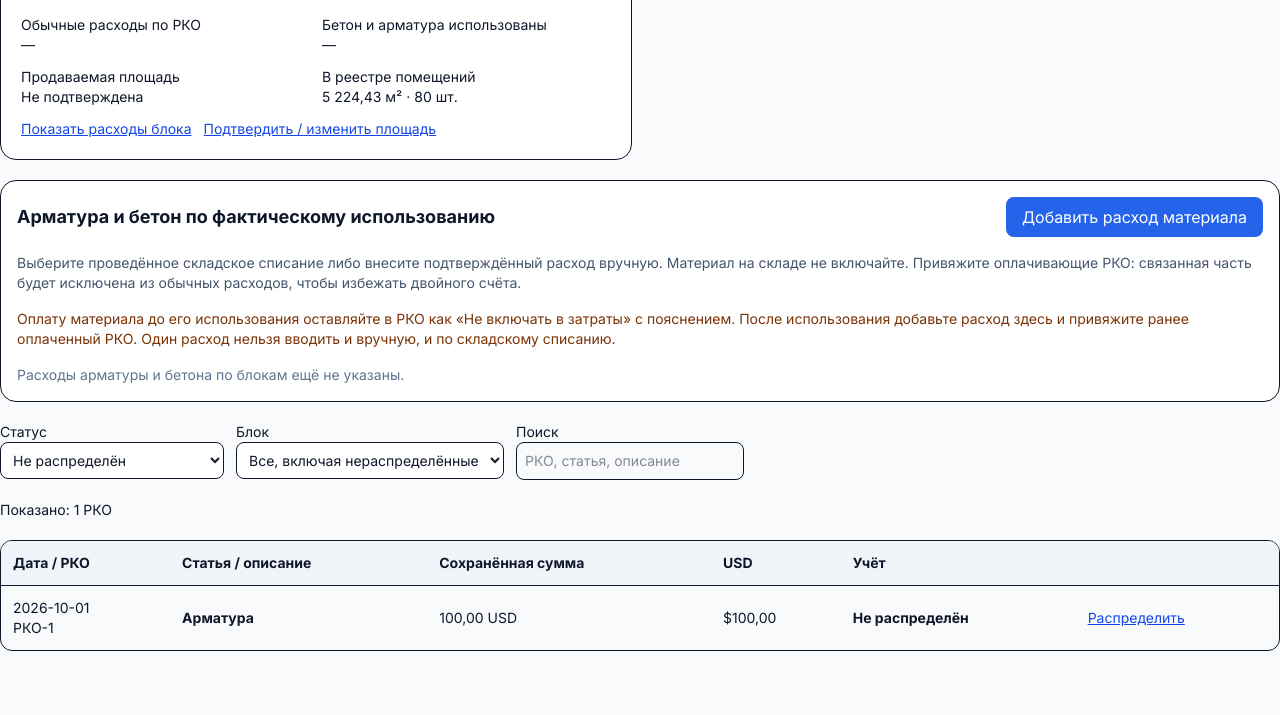
Test: Block costs workflow › requires explicit block selection before assigning an RKO
(page scrolled)
Click the button "Распределить": (1136, 618) [1088,608,1185,628]
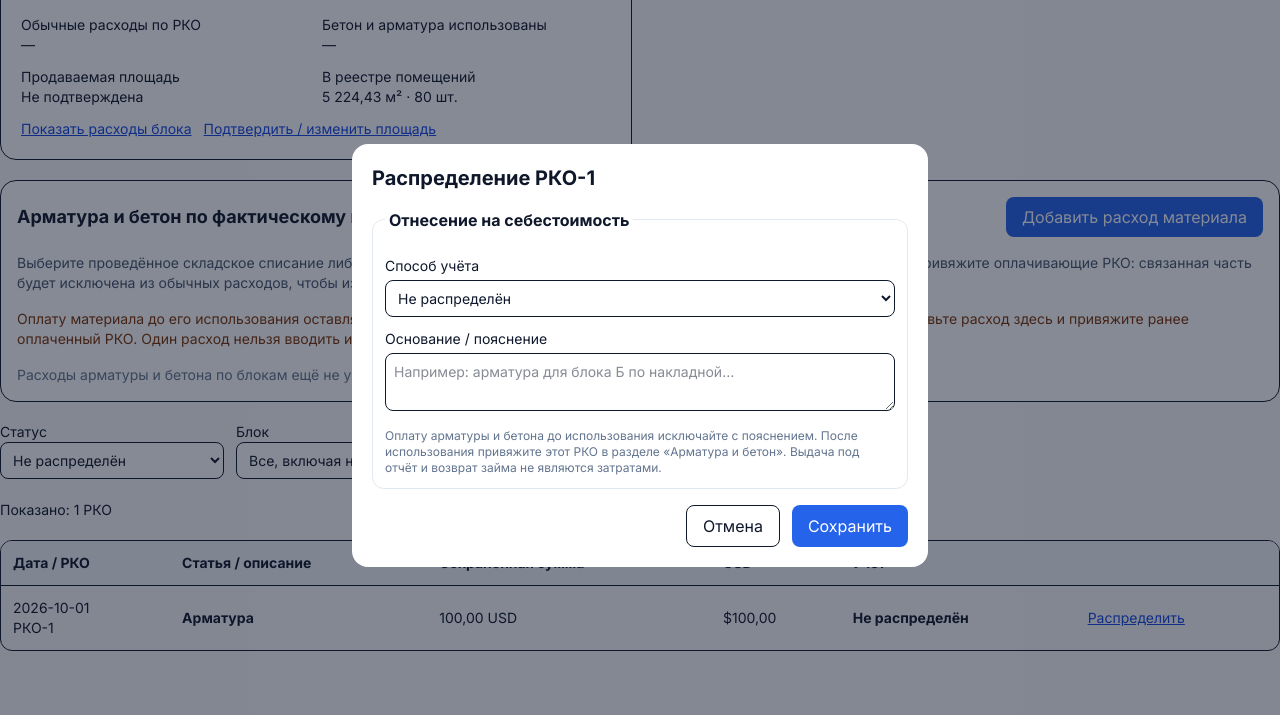
Select "Расход одного блока" in the dropdown labelled "Способ учёта": (640, 298) [385,280,895,316]
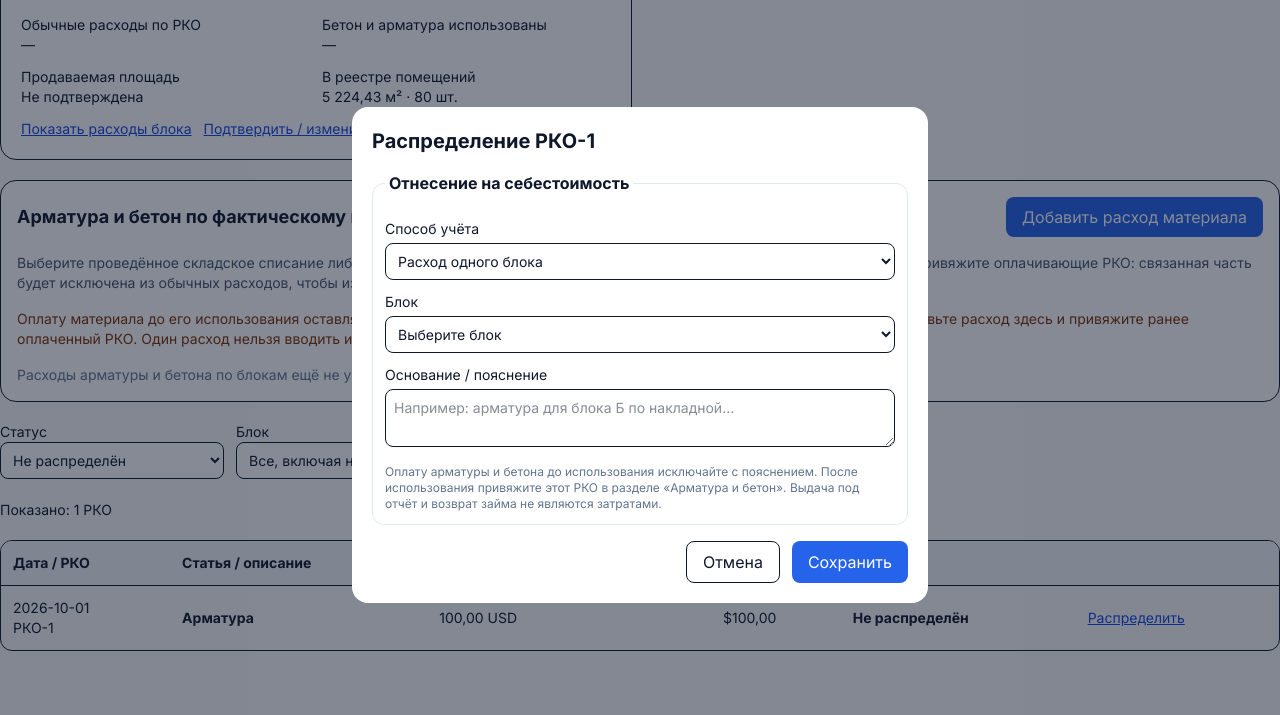
Click the button "Сохранить": (850, 562) [792,541,908,583]
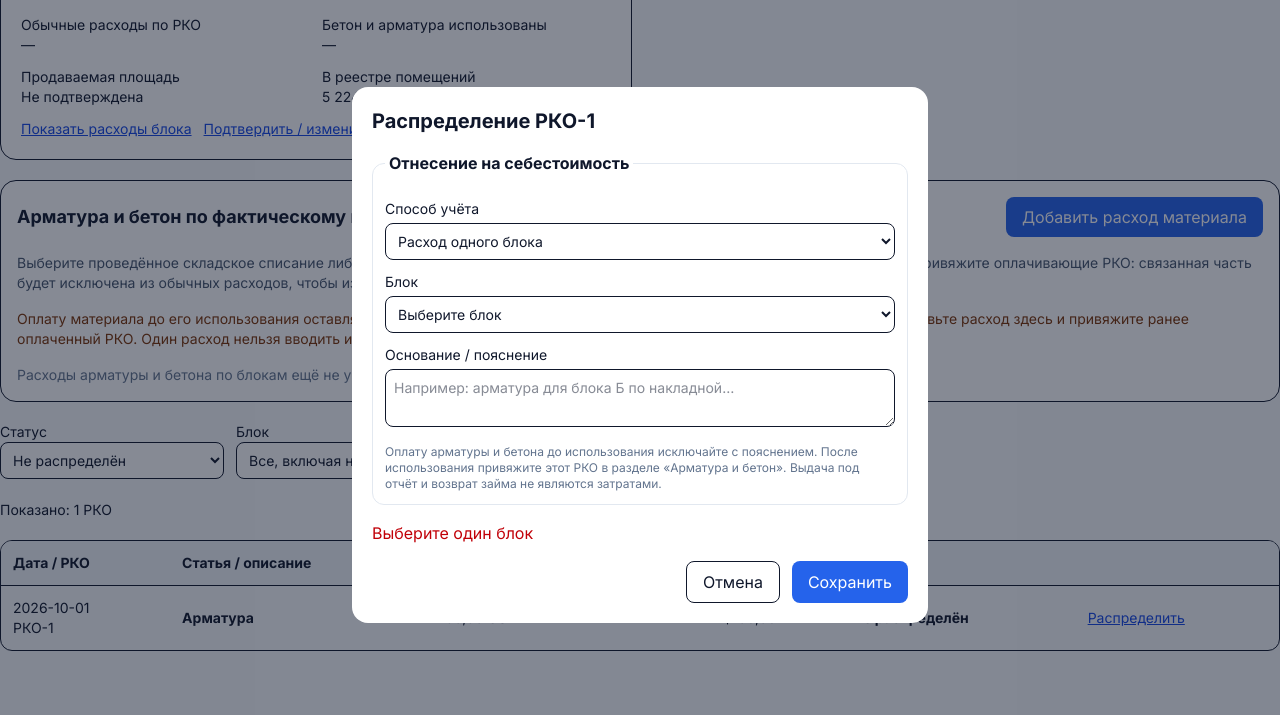
Result: the message reads "Выберите один блок" at [372,523,533,543]
